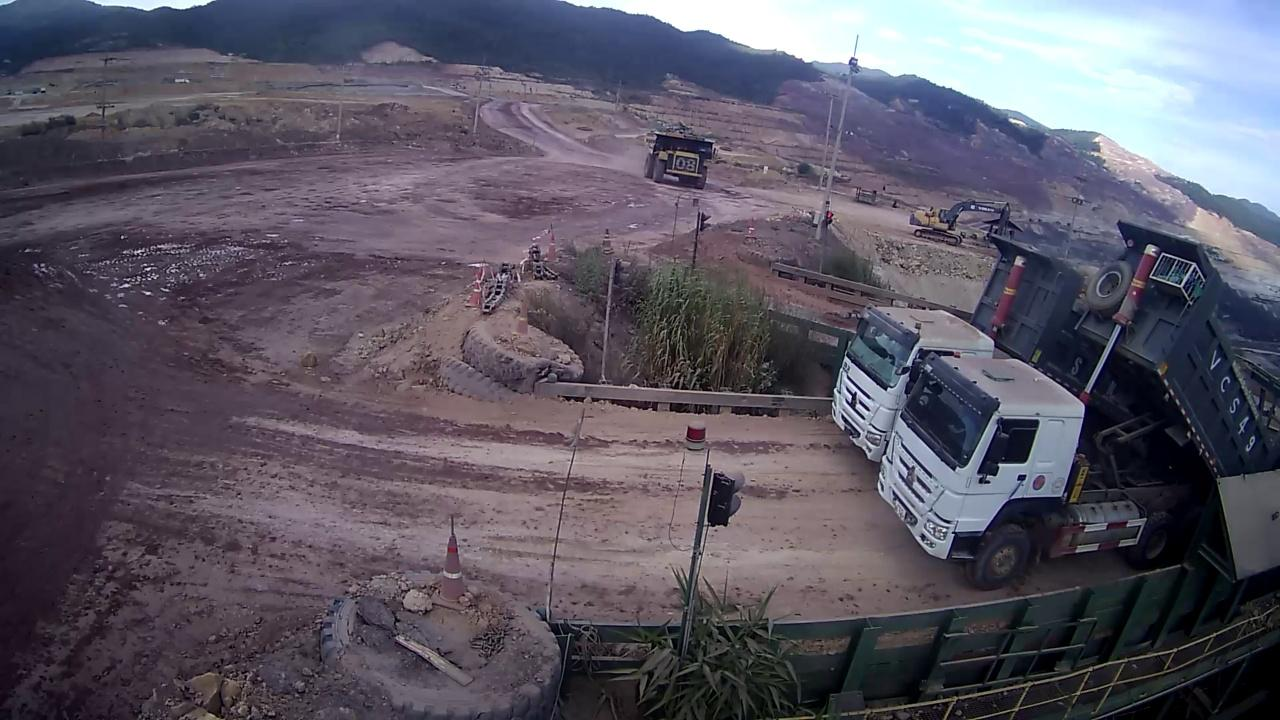front_number: (672, 153, 699, 174)
mining truck: (829, 204, 1277, 590)
mining_truck: (638, 119, 724, 197)
